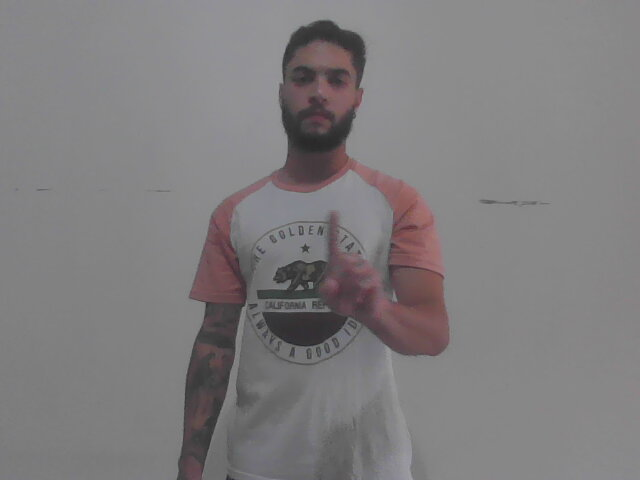z: (315, 205, 391, 321)
